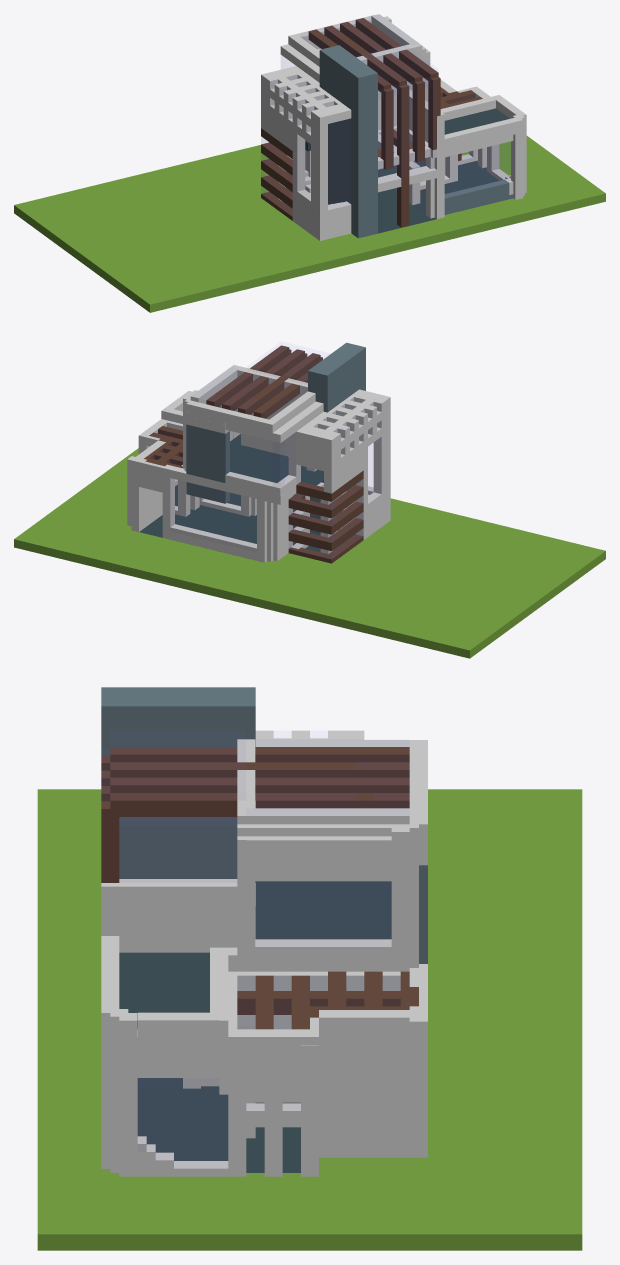
File: house.glb
3 views of the same model, one above another, from view 1: azimuth 30°, elevation 25°; view 2: azimuth 150°, elevation 25°; view 3: azimuth 270°, elevation 25° (orthographic). The views are drawn at different scales.
Parts seen in each view (by area): view 1: node_MeshObject-764358208-PolyPaper21; view 2: node_MeshObject-764358208-PolyPaper21; view 3: node_MeshObject-764358208-PolyPaper21.
Boxes of the visible parts, left/top/right/bottom form: node_MeshObject-764358208-PolyPaper21: left=14, top=14, right=605, bottom=312; node_MeshObject-764358208-PolyPaper21: left=14, top=342, right=605, bottom=658; node_MeshObject-764358208-PolyPaper21: left=37, top=687, right=582, bottom=1250.
Bounding box in the file's own units: 1.16 × 0.42 × 0.6.
